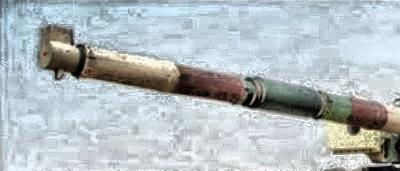tanks: (40, 28, 400, 171)
